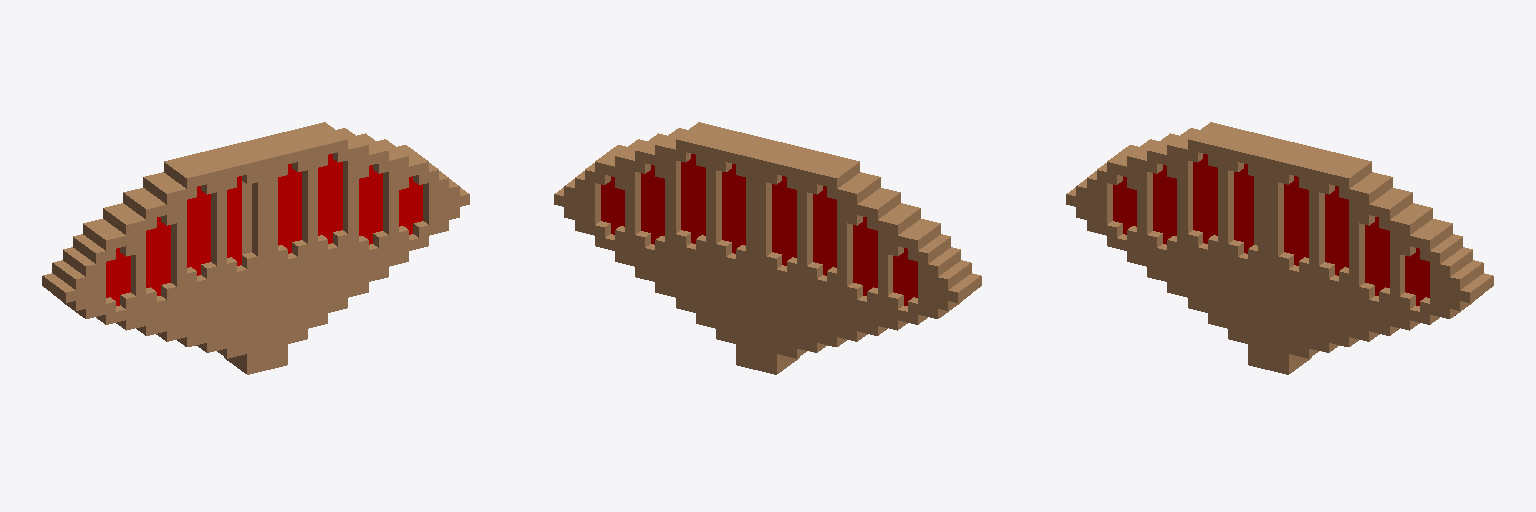
The picture shows the model from 3 angles: view 1: azimuth 30°, elevation 25°; view 2: azimuth 150°, elevation 25°; view 3: azimuth 330°, elevation 25°; orthographic projection.
Visible parts, largest first — view 1: Fan(handhold)_65; view 2: Fan(handhold)_65; view 3: Fan(handhold)_65.
Boxes of the visible parts, box(x1,y1,x2,y2) form: Fan(handhold)_65: box(42, 122, 469, 374); Fan(handhold)_65: box(554, 122, 981, 374); Fan(handhold)_65: box(1066, 122, 1493, 374).
Bounding box in the file's own units: 4 × 2 × 0.4.
1 materials, 1 textured.